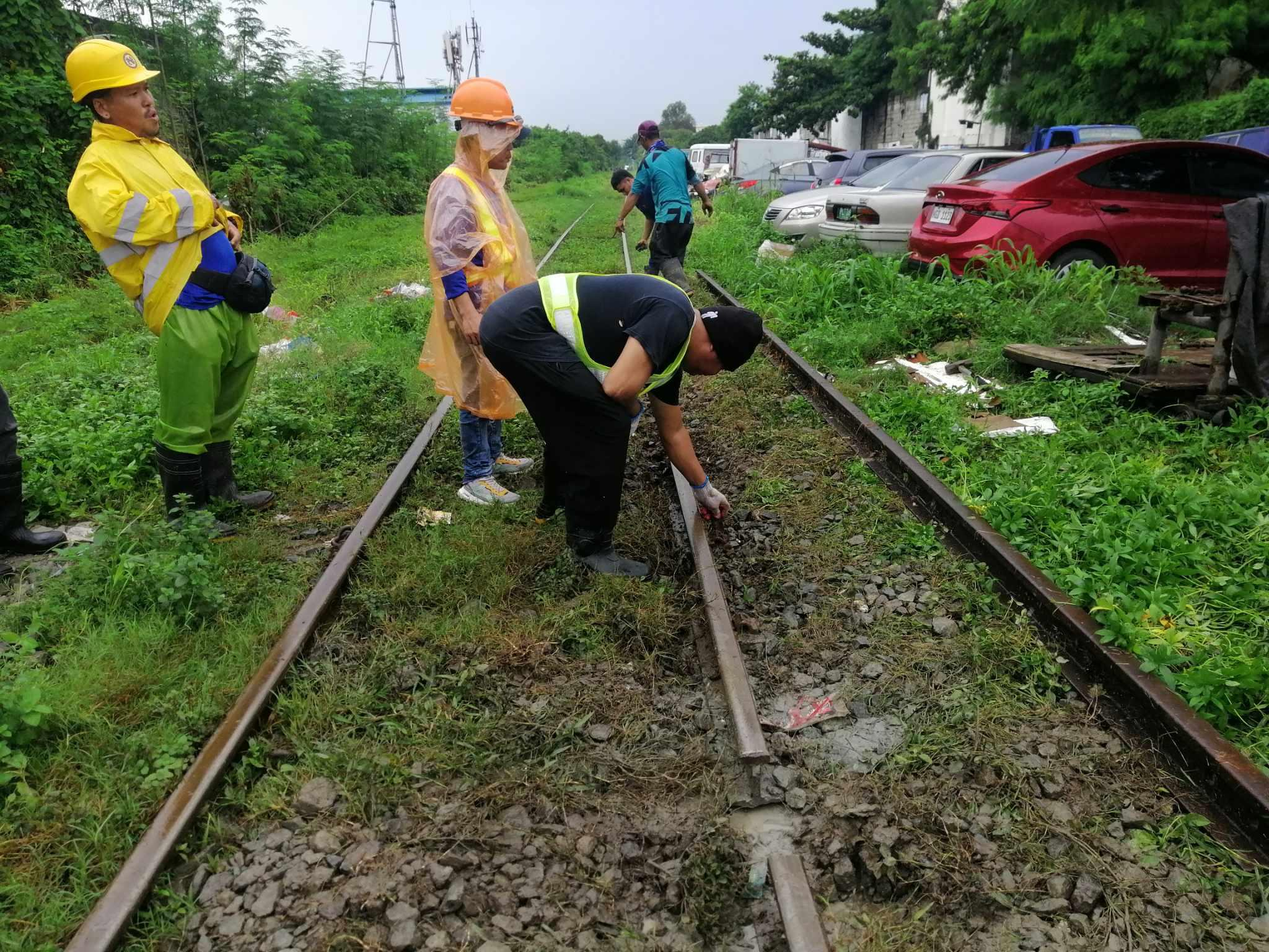railway-gap: (683, 717, 835, 916)
